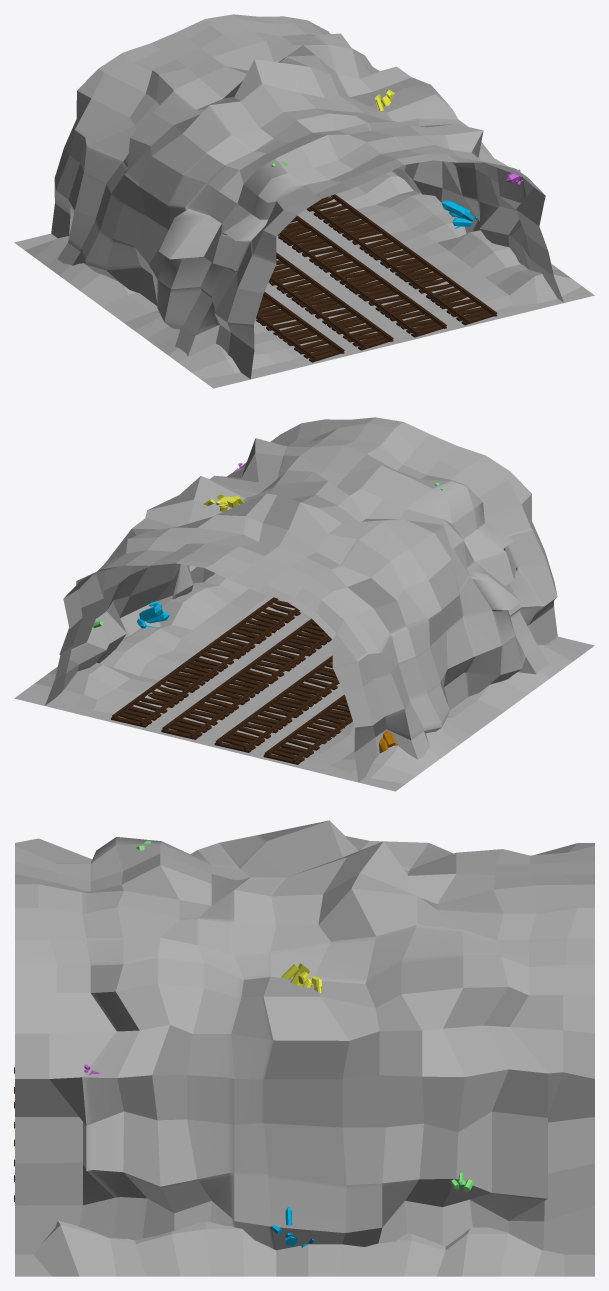
The model's file is tunnel variation 2.fbx.
The picture shows the model from 3 angles, top to bottom: view 1: azimuth 30°, elevation 25°; view 2: azimuth 150°, elevation 25°; view 3: azimuth 270°, elevation 25°; orthographic projection. The views are drawn at different scales.
Visible parts, largest first — view 1: floor2_low, rails2_low, gem2_low; view 2: floor2_low, rails2_low, gem2_low; view 3: floor2_low, gem2_low.
Part boxes in pixels (x1,y1,x2,y2): floor2_low: (14, 14, 594, 388); rails2_low: (256, 194, 497, 362); gem2_low: (271, 89, 522, 229); floor2_low: (14, 417, 594, 791); rails2_low: (111, 597, 352, 764); gem2_low: (92, 463, 444, 753); floor2_low: (15, 820, 594, 1276); gem2_low: (84, 840, 473, 1247).
Bounding box in the file's own units: 22.53 × 11.02 × 20.44.
